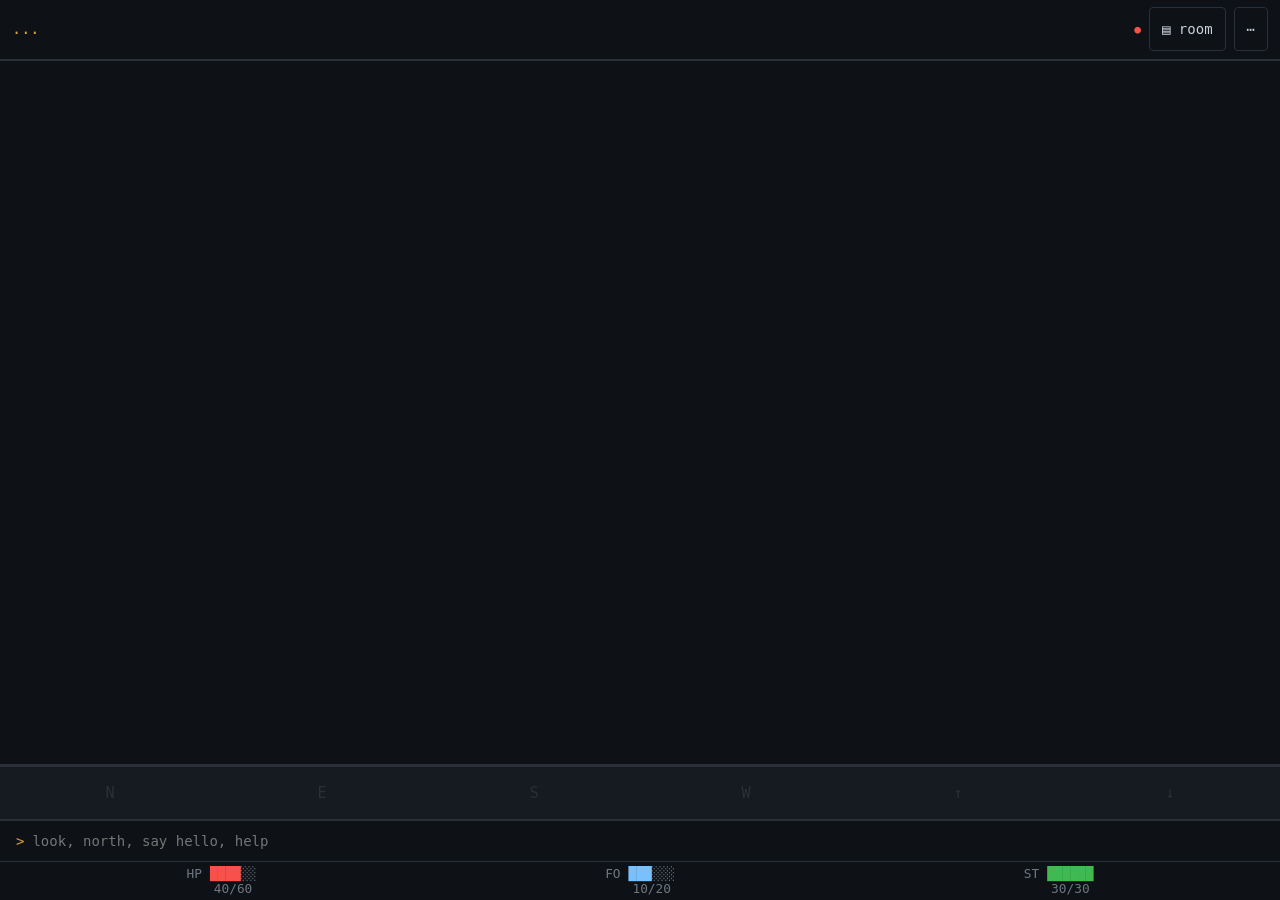
Test: reaches who you are and the way out from the header menu
Press the mouse on the button named "character and session": (1251, 29) [1234,7,1268,51]
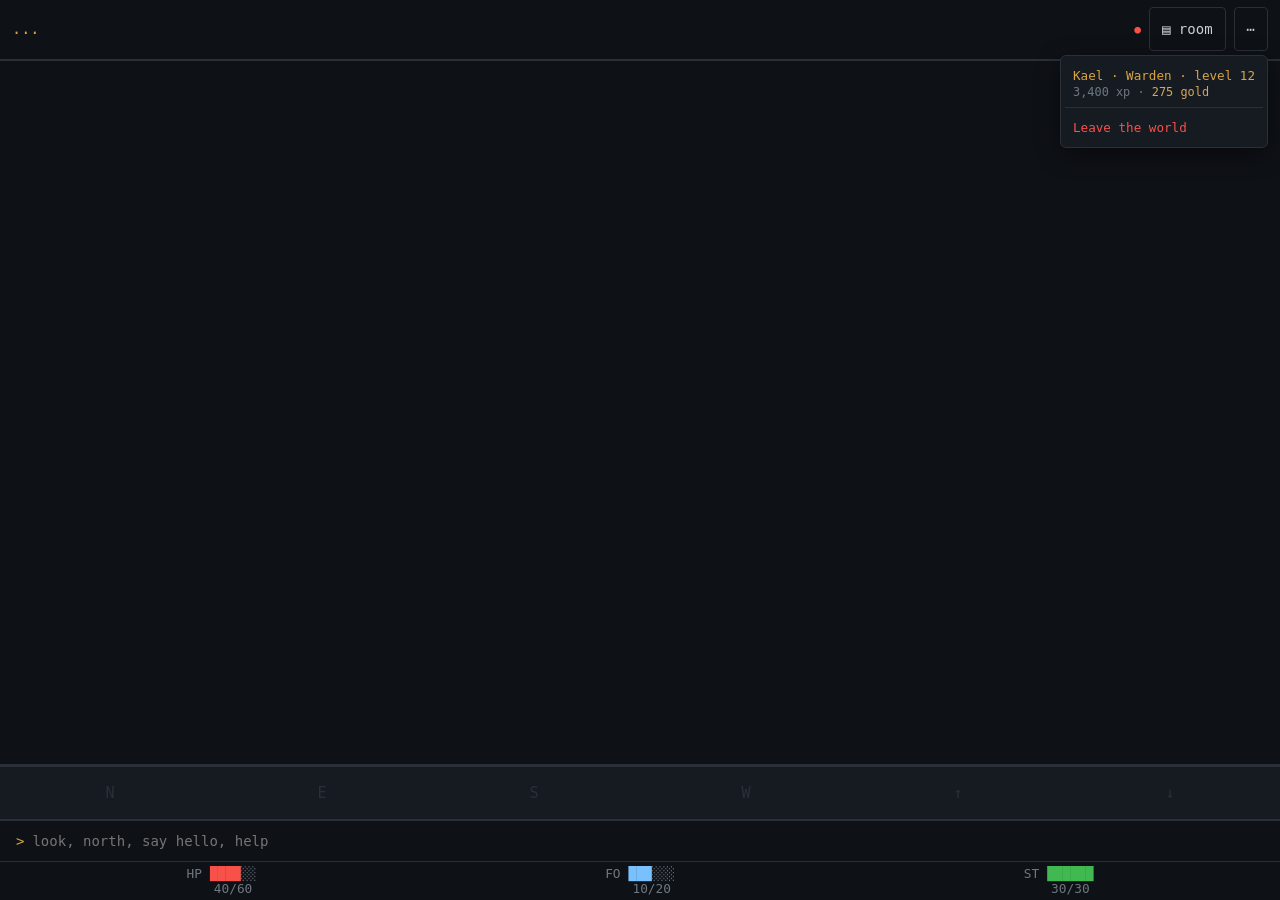
Expected: the text "Kael · Warden · level 12" is shown, [1073,68,1255,83]
Expected: the text "275 gold" is shown, [1152,85,1209,99]
Expected: the menu item "Leave the world" is shown, [1073,120,1187,135]
